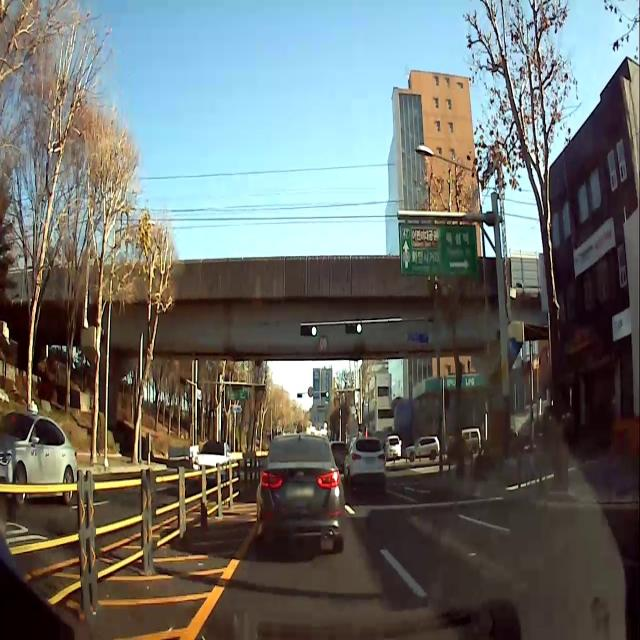Green Light: (310, 326, 318, 336), (356, 322, 362, 333), (325, 392, 329, 398)
